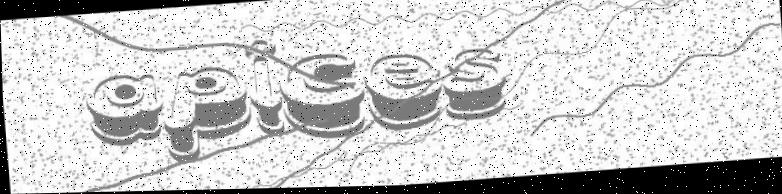a: (82, 71, 164, 150)
c: (274, 53, 365, 144)
e: (360, 52, 443, 135)
i: (241, 38, 287, 141)
p: (157, 64, 254, 166)
s: (436, 49, 507, 126)
